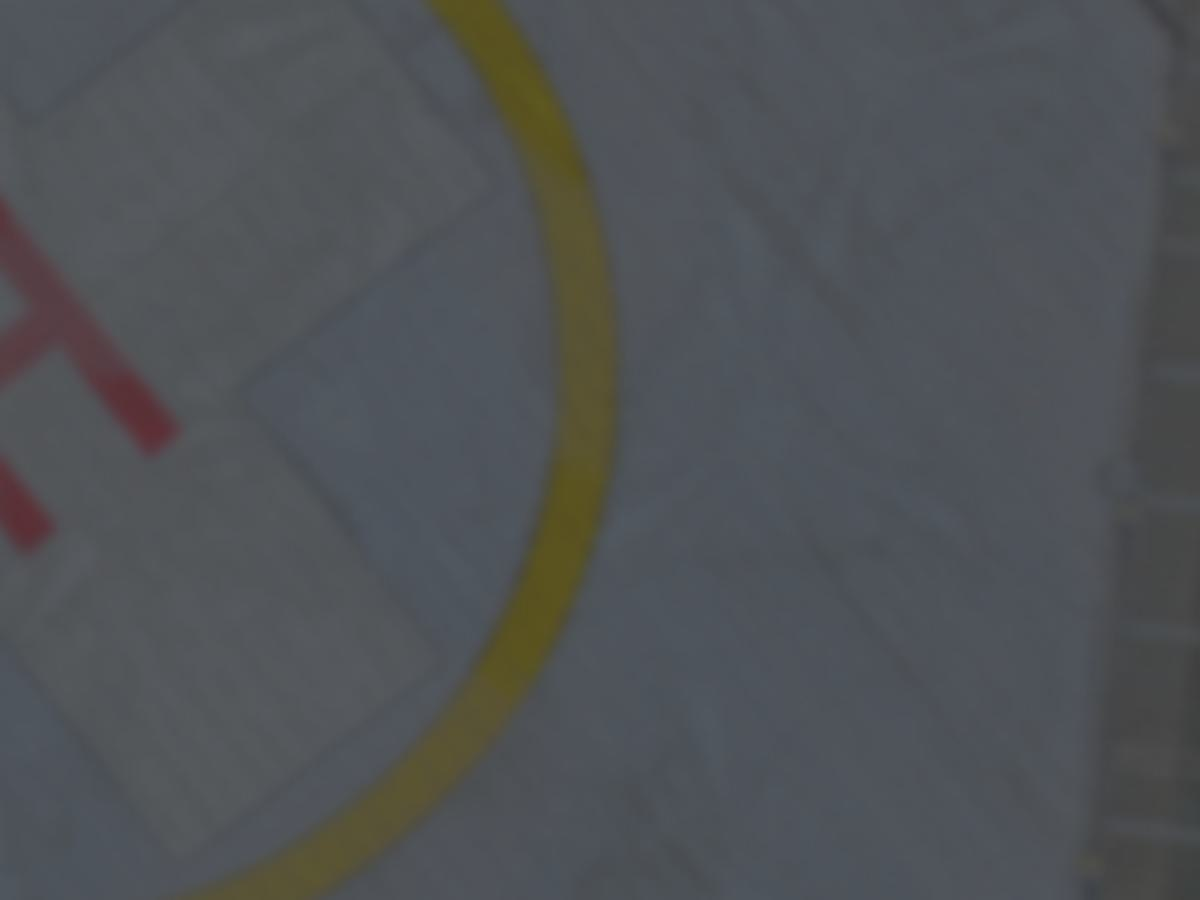Apron: (216, 1, 627, 888)
